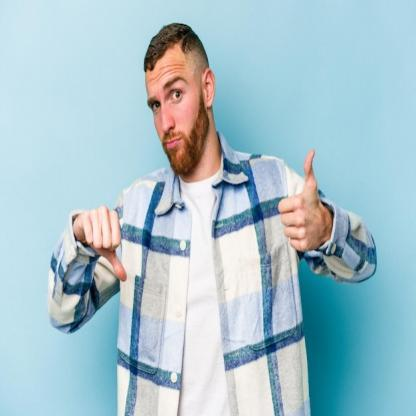thumb_down: (73, 204, 130, 284)
thumb_up: (277, 146, 329, 256)
